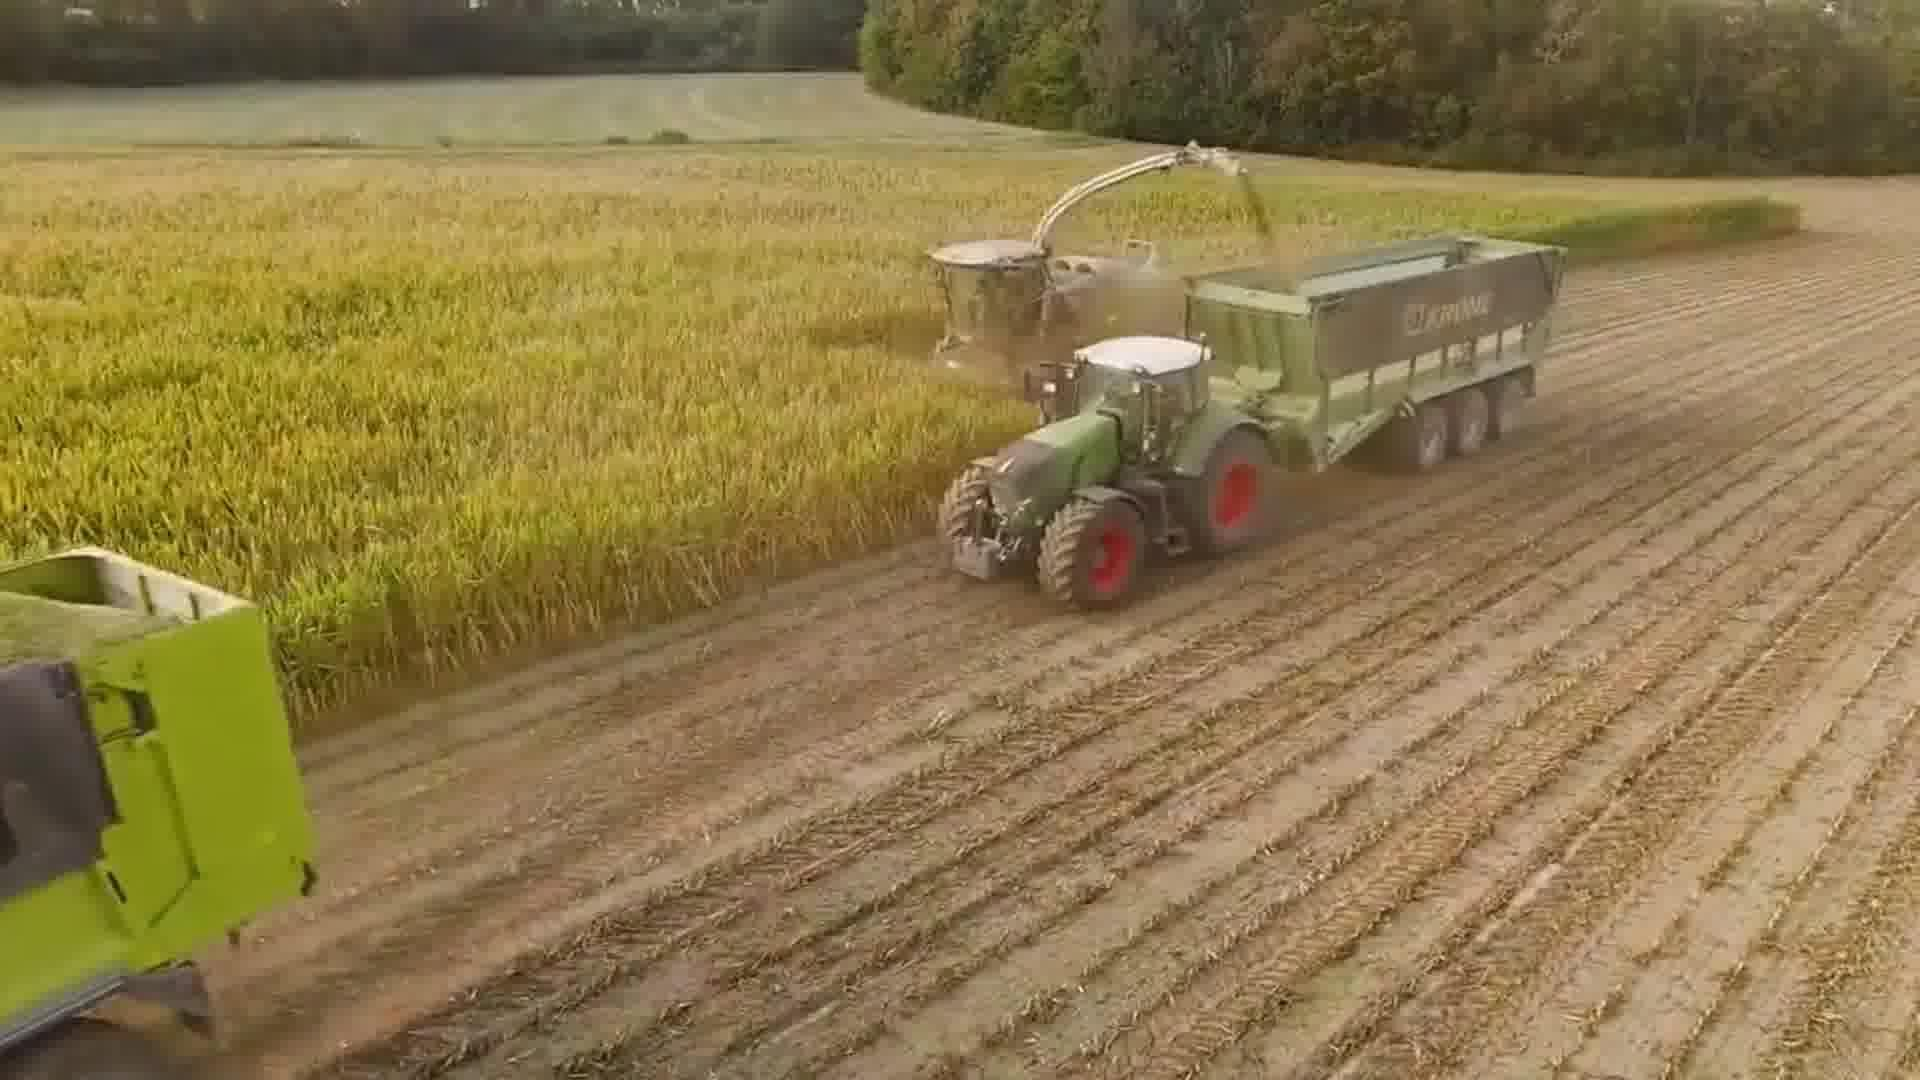combine harvester: (924, 138, 1249, 394)
tractor: (934, 328, 1286, 615)
trailer: (0, 531, 342, 1080), (1179, 227, 1571, 476)
